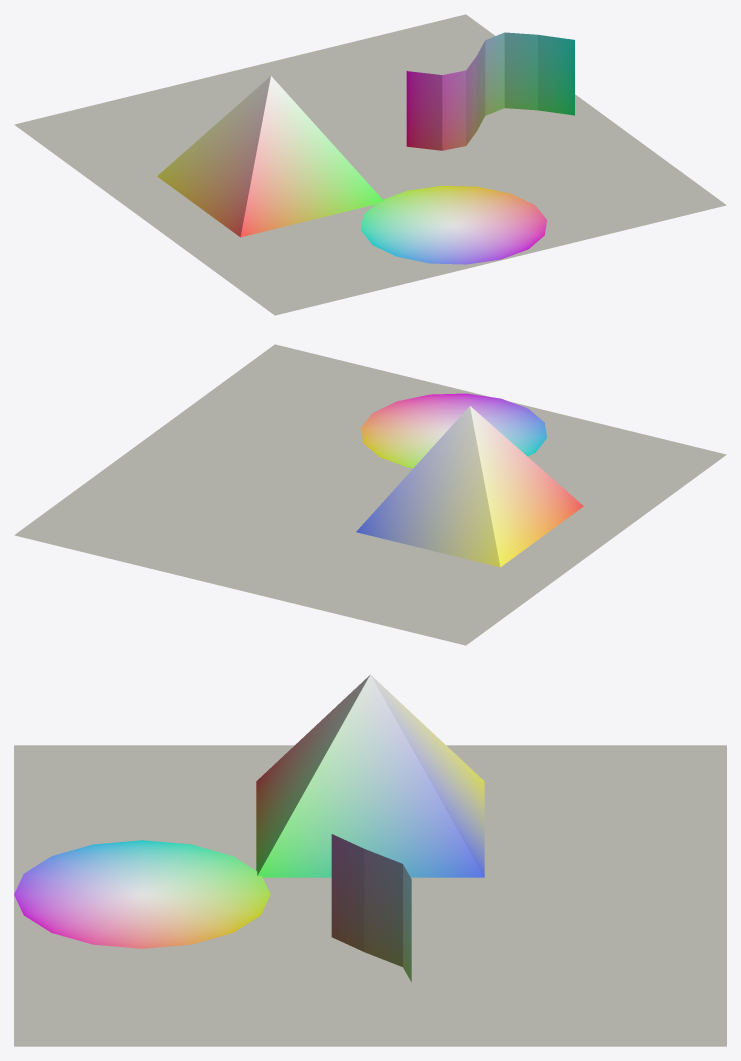
The model's file is vertex_colors.glb.
The picture shows the model from 3 angles, top to bottom: view 1: azimuth 30°, elevation 25°; view 2: azimuth 150°, elevation 25°; view 3: azimuth 270°, elevation 25°; orthographic projection. The views are drawn at different scales.
Visible parts, largest first — view 1: ground, coloured; view 2: ground, coloured; view 3: ground, coloured.
Part boxes in pixels (left/top/right/bottom): ground: left=14, top=14, right=726, bottom=315; coloured: left=157, top=32, right=574, bottom=264; ground: left=14, top=344, right=726, bottom=645; coloured: left=356, top=393, right=583, bottom=567; ground: left=14, top=745, right=726, bottom=1046; coloured: left=14, top=674, right=484, bottom=981.
Size of the model in its own units: 5 by 1.2 by 5.
